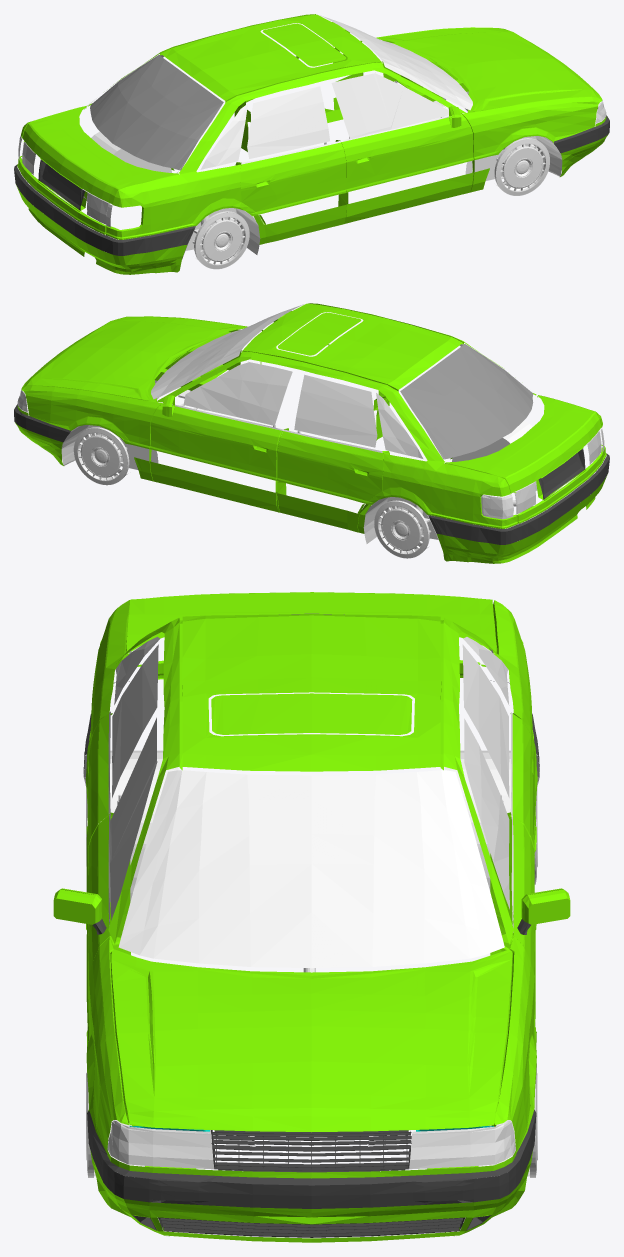
File: audi80_b3_exterior.glb
The picture shows the model from 3 angles, top to bottom: view 1: azimuth 30°, elevation 25°; view 2: azimuth 150°, elevation 25°; view 3: azimuth 270°, elevation 25°; orthographic projection. The views are drawn at different scales.
Parts seen in each view (by area): view 1: Paint_body_1, Paint_bonnet_ok, Glass_glass_011, Paint_door_lf_1, Paint_door_lr_1, Paint_boot1, Paint_body_001_1, Glass_door_lf_001, Glass_door_lr_001, TrimBlack_bump_rear, Glass_glass_010, TrimBlack_bump_rear_1 (+9 smaller); view 2: Paint_body_1, Paint_bonnet_ok, Glass_glass_011, Paint_door_rf_1, Paint_door_rr_1, Paint_boot1, Paint_body_012_1, Glass_door_rr_001, Glass_door_rf_001, TrimBlack_bump_rear, Glass_glass_010, TrimBlack_trim_5 (+9 smaller); view 3: Glass_glass_010, Paint_bonnet_ok, Paint_body_1, TrimBlack_bump_front001, TrimBlack_bump_front001_1, Paint_boot1, TrimBlack_trim_007, Paint_body_001_1, Paint_body_012_1, Glass_door_lf_001, Glass_door_rf_001, Glass_door_lr_001 (+12 smaller).
Boxes of the visible parts, x1=… form: Paint_body_1: x1=17, y1=14, x2=475, y2=244; Paint_bonnet_ok: x1=377, y1=28, x2=601, y2=111; Glass_glass_011: x1=90, y1=55, x2=223, y2=170; Paint_door_lf_1: x1=335, y1=114, x2=473, y2=223; Paint_door_lr_1: x1=235, y1=142, x2=346, y2=243; Paint_boot1: x1=21, y1=106, x2=178, y2=234; Paint_body_001_1: x1=461, y1=96, x2=602, y2=192; Glass_door_lf_001: x1=331, y1=73, x2=448, y2=138; Glass_door_lr_001: x1=247, y1=86, x2=329, y2=158; TrimBlack_bump_rear: x1=14, y1=164, x2=195, y2=255; Glass_glass_010: x1=320, y1=15, x2=472, y2=110; TrimBlack_bump_rear_1: x1=16, y1=186, x2=187, y2=274; Paint_body_1: x1=148, y1=303, x2=606, y2=533; Paint_bonnet_ok: x1=22, y1=317, x2=246, y2=400; Glass_glass_011: x1=400, y1=344, x2=533, y2=459; Paint_door_rf_1: x1=150, y1=403, x2=288, y2=512; Paint_door_rr_1: x1=277, y1=431, x2=389, y2=532; Paint_boot1: x1=445, y1=395, x2=602, y2=523; Paint_body_012_1: x1=21, y1=385, x2=162, y2=481; Glass_door_rr_001: x1=294, y1=374, x2=377, y2=447; Glass_door_rf_001: x1=183, y1=362, x2=292, y2=425; TrimBlack_bump_rear: x1=428, y1=453, x2=609, y2=544; Glass_glass_010: x1=151, y1=304, x2=303, y2=399; TrimBlack_trim_5: x1=61, y1=380, x2=537, y2=556; Glass_glass_010: x1=118, y1=770, x2=504, y2=968; Paint_bonnet_ok: x1=111, y1=949, x2=512, y2=1132; Paint_body_1: x1=85, y1=600, x2=537, y2=1169; TrimBlack_bump_front001: x1=87, y1=1109, x2=536, y2=1237; TrimBlack_bump_front001_1: x1=90, y1=1150, x2=532, y2=1242; Paint_boot1: x1=126, y1=592, x2=496, y2=679; TrimBlack_trim_007: x1=210, y1=1130, x2=411, y2=1172; Paint_body_001_1: x1=86, y1=936, x2=134, y2=1153; Paint_body_012_1: x1=491, y1=936, x2=536, y2=1153; Glass_door_lf_001: x1=110, y1=717, x2=157, y2=920; Glass_door_rf_001: x1=464, y1=718, x2=509, y2=909; Glass_door_lr_001: x1=112, y1=644, x2=158, y2=797.
Size of the model in its own units: 4.39 by 1.25 by 1.89.
